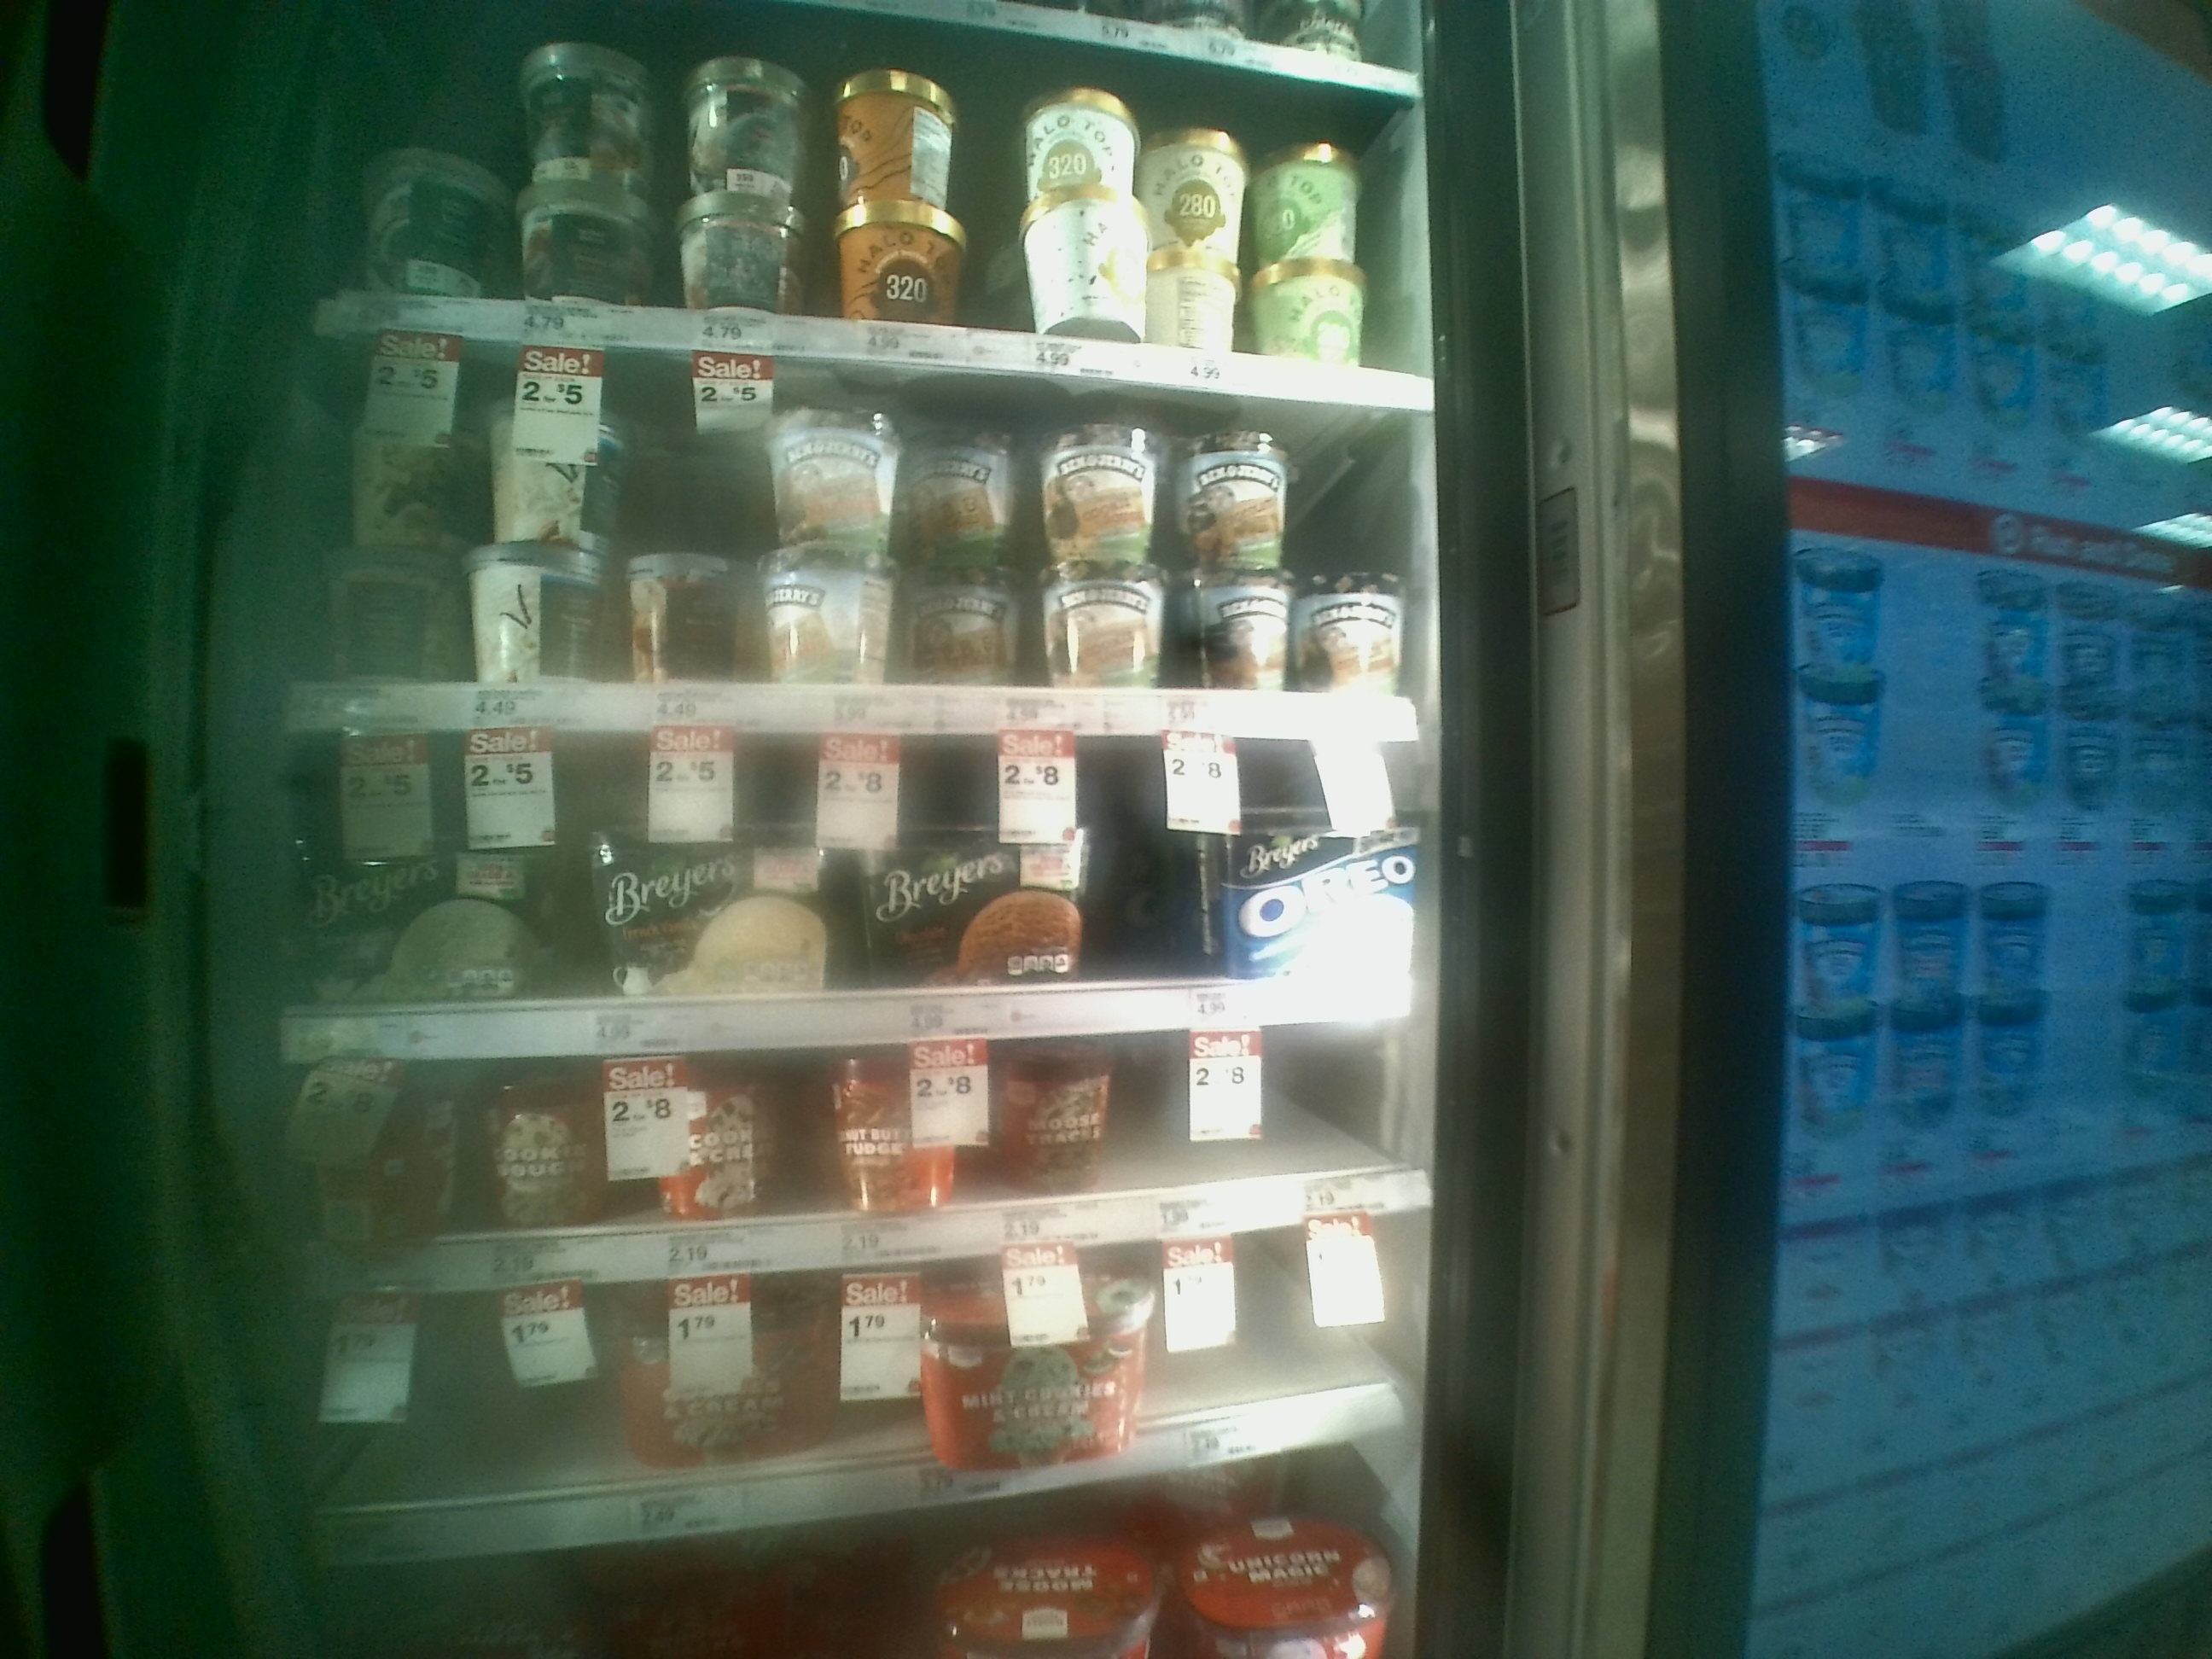shelf: (280, 335, 1440, 721), (265, 718, 1428, 1040), (265, 1040, 1447, 1319)
